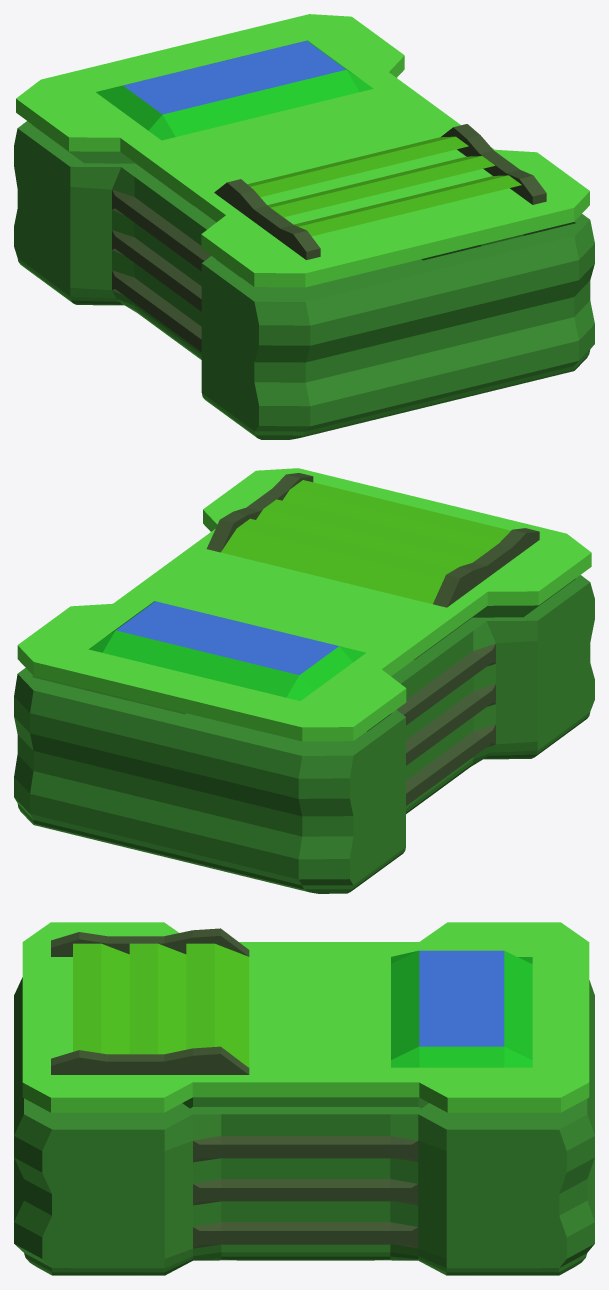
Rendered from carcasa_prototipo.glb.
3 renders of one model, top to bottom at view 1: azimuth 30°, elevation 25°; view 2: azimuth 150°, elevation 25°; view 3: azimuth 270°, elevation 25°, orthographic. The views are drawn at different scales.
Parts seen in each view (by area): view 1: Tapa-Carcasa2, Carcasa2; view 2: Tapa-Carcasa2, Carcasa2; view 3: Tapa-Carcasa2, Carcasa2.
Boxes of the visible parts, x1,y1,x2,y2 form: Tapa-Carcasa2: (16, 14, 589, 287); Carcasa2: (14, 121, 594, 439); Tapa-Carcasa2: (17, 468, 591, 741); Carcasa2: (14, 575, 594, 893); Tapa-Carcasa2: (22, 922, 589, 1112); Carcasa2: (14, 977, 594, 1275).
Bounding box in the file's own units: 75.2 × 40.46 × 105.
